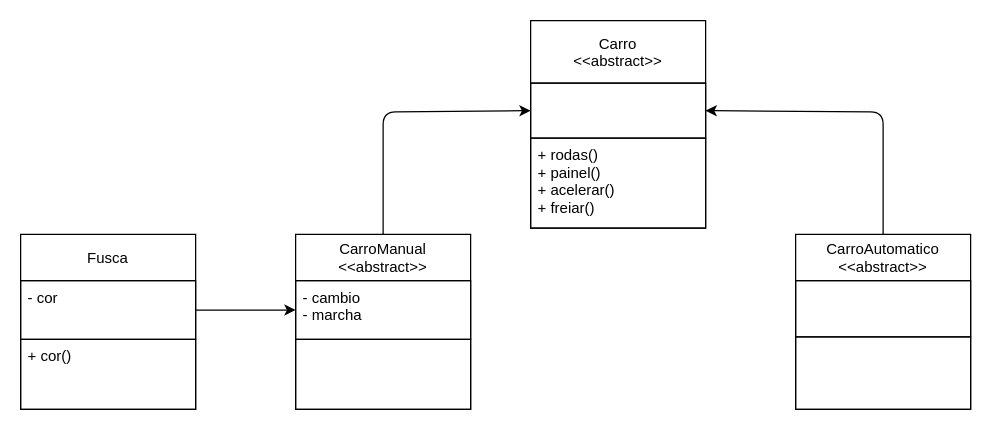
Some shapes in this 991 by 430 pixel diagram are drawn without their labels. Each missing label, with the box of its shape:
+ trocaMarcha(): (294, 338, 471, 409)
+ trocarModoDirecao() + trocarMarchaAuto() + trocarMarca(): (794, 336, 971, 409)
- cambioAutomatico - modoDirecao(): (794, 279, 971, 337)
- rodas - painel: (529, 82, 706, 138)
